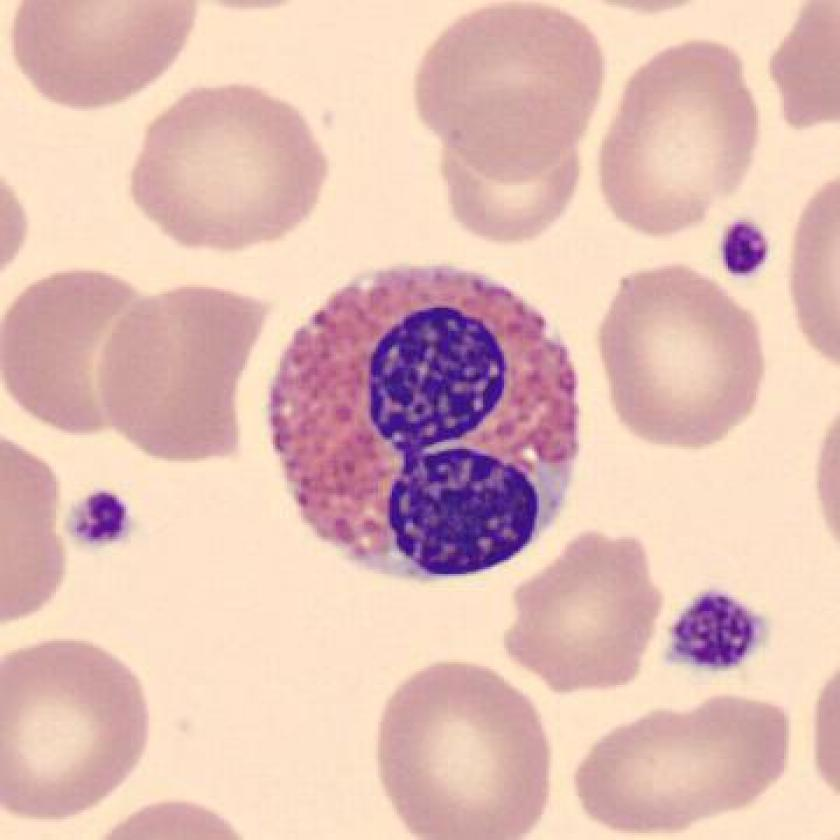eosinophil: (256, 256, 592, 594)
